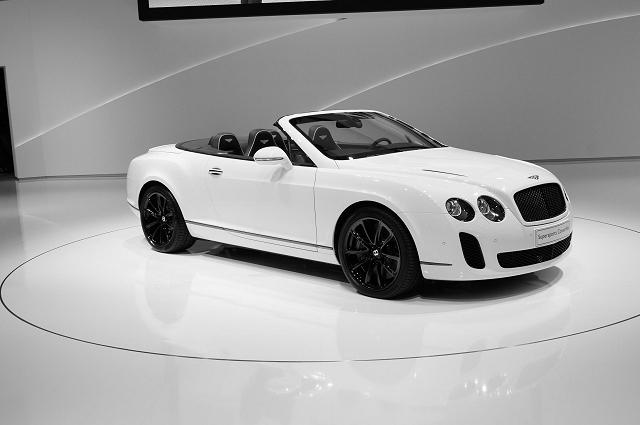car: (124, 107, 578, 303)
